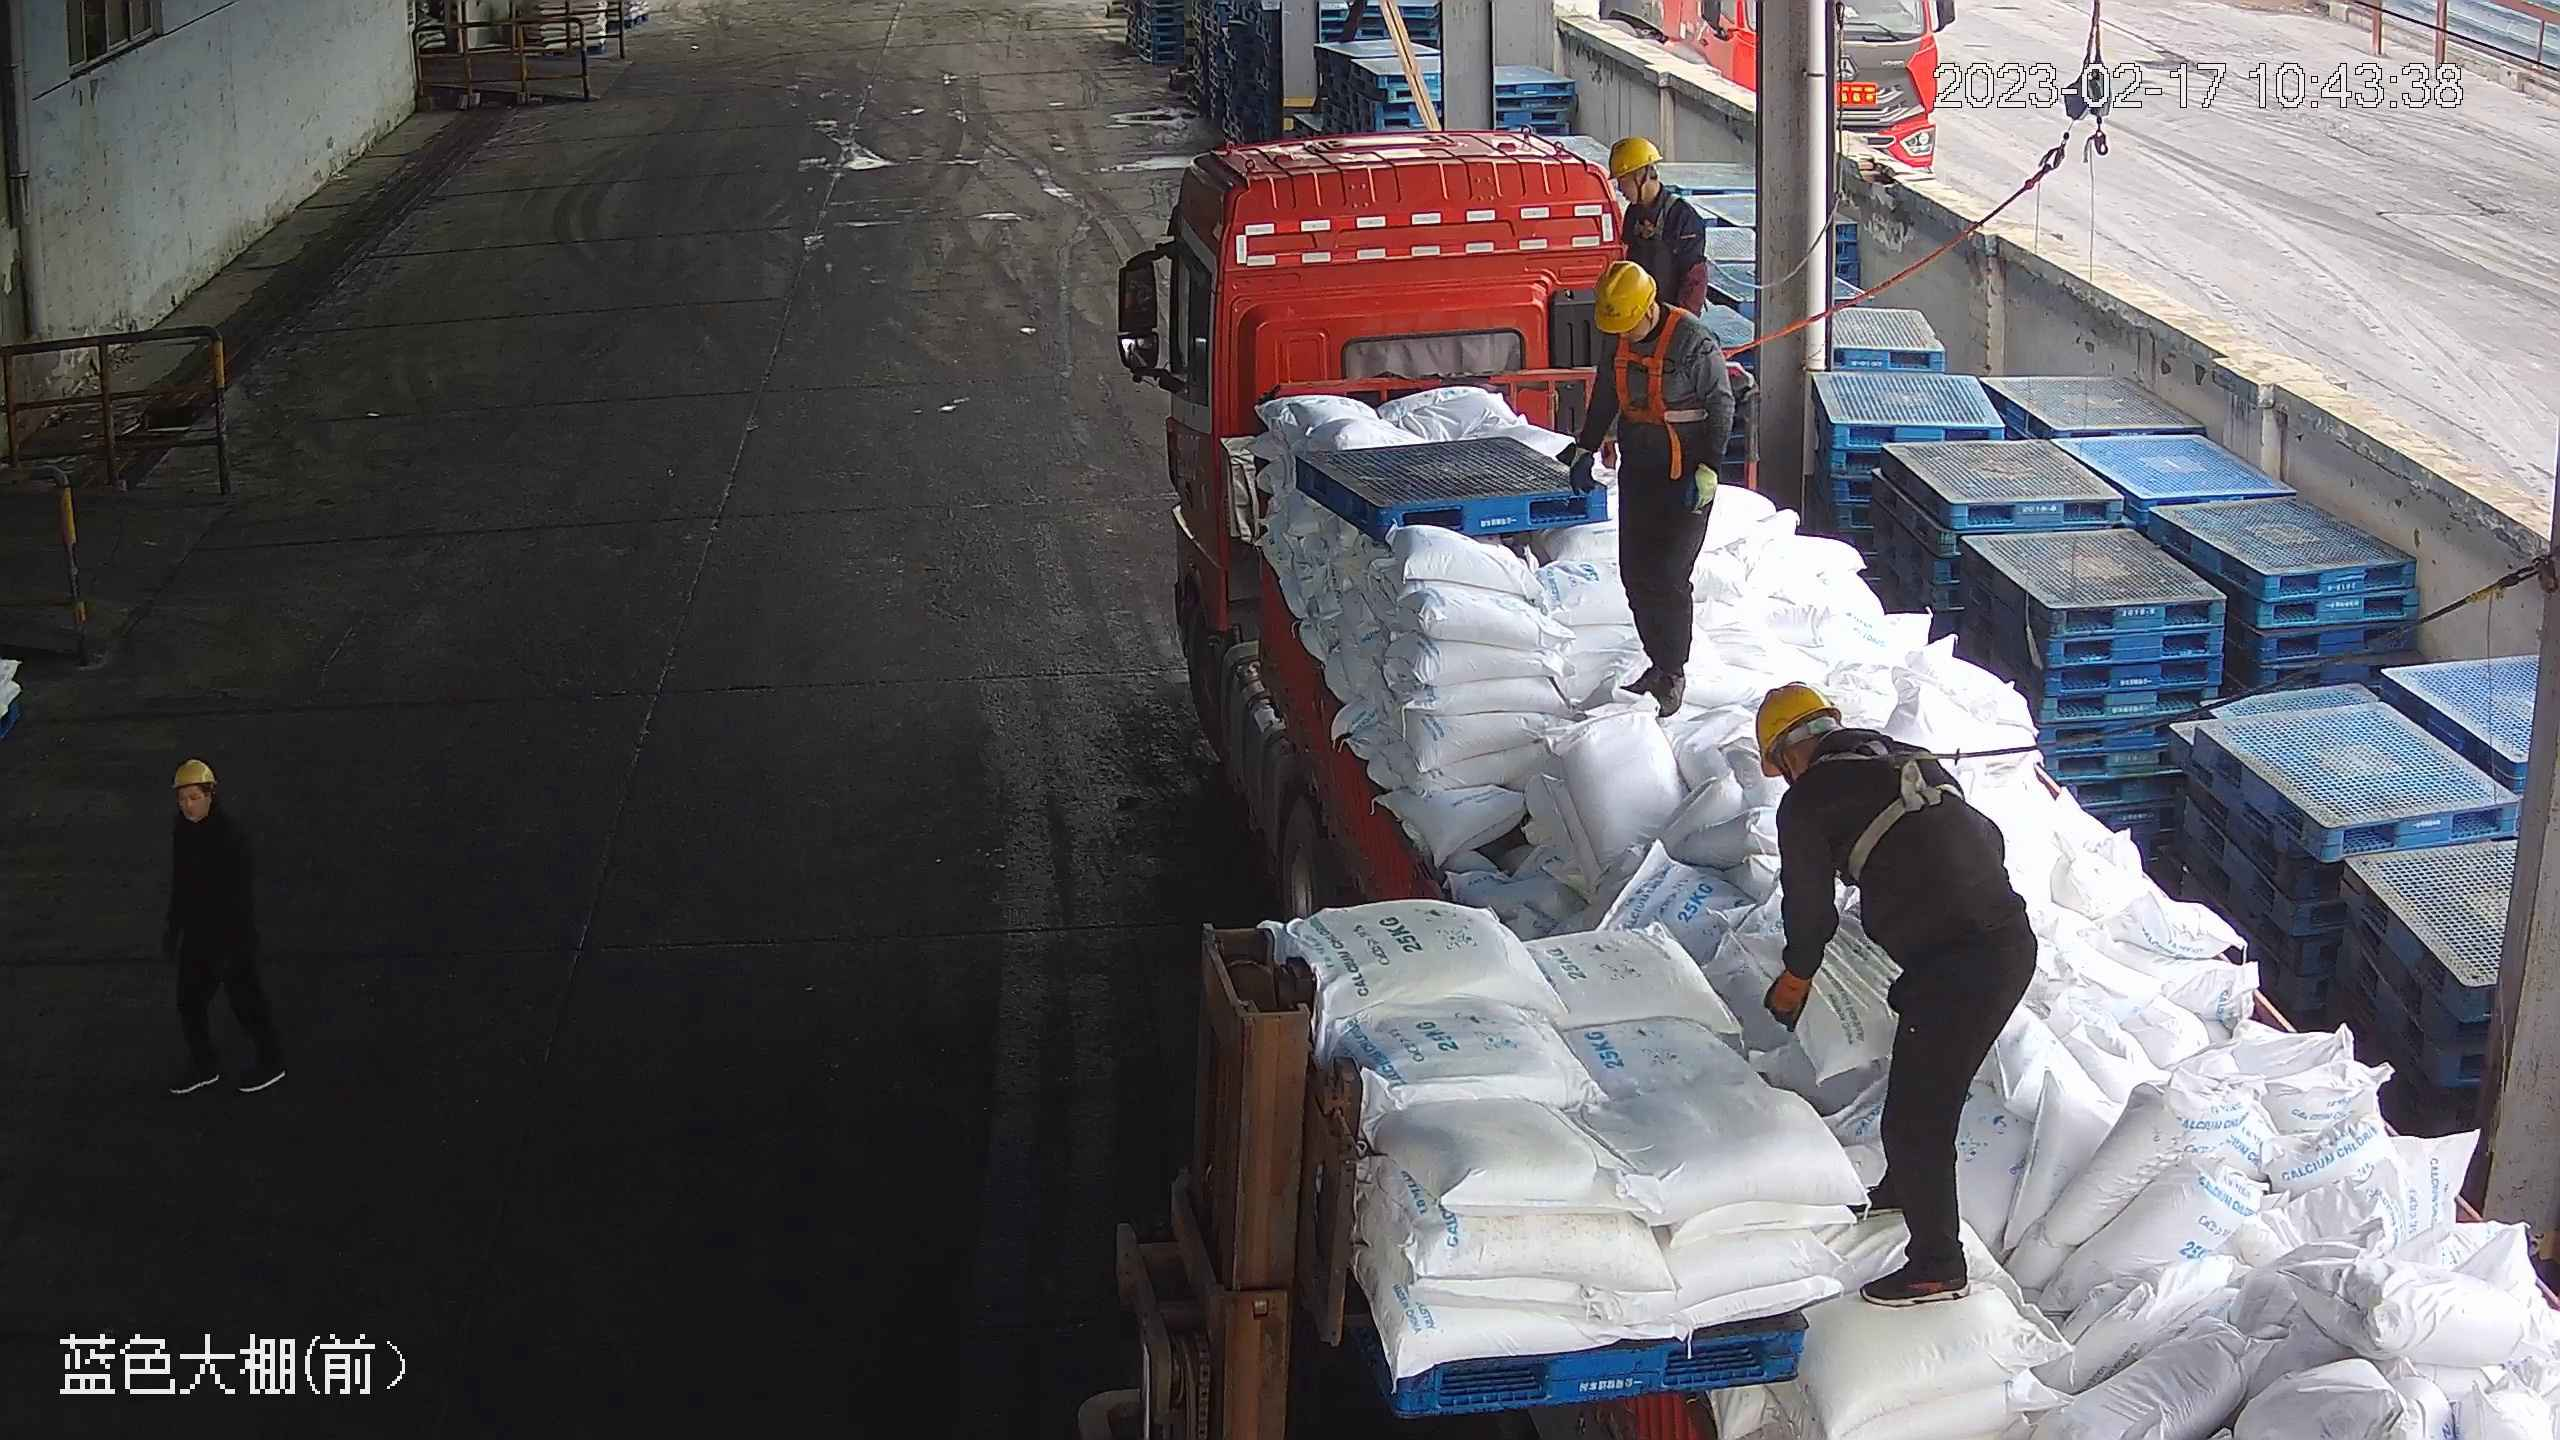belt: (1830, 731, 1977, 862), (1601, 303, 1720, 432), (1619, 188, 1698, 249)
head: (1746, 681, 1933, 823), (1585, 258, 1725, 368), (1605, 136, 1704, 237), (166, 753, 252, 862)
helmet: (1749, 679, 1843, 764), (1593, 258, 1658, 333), (1605, 134, 1661, 181), (171, 756, 217, 789)
people: (1747, 682, 2038, 1314), (1562, 252, 1733, 718), (159, 756, 294, 1098)
truck: (1124, 103, 2548, 1440)
